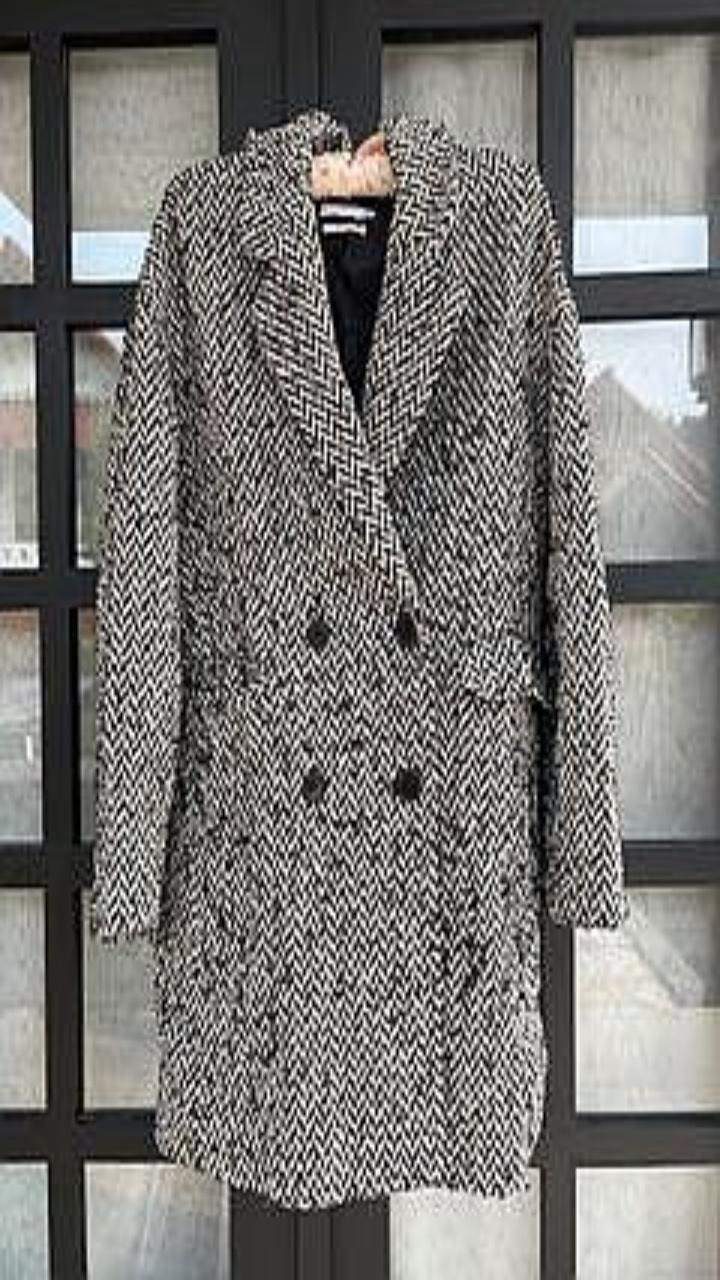Coat: (90, 107, 628, 1207)
